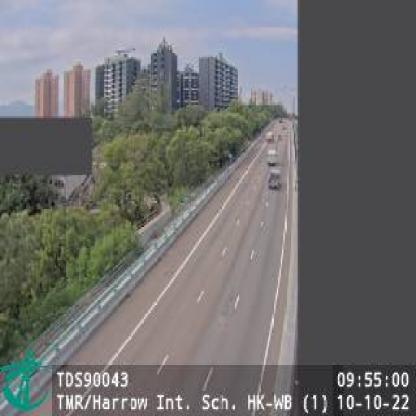Car: (269, 171, 282, 191)
